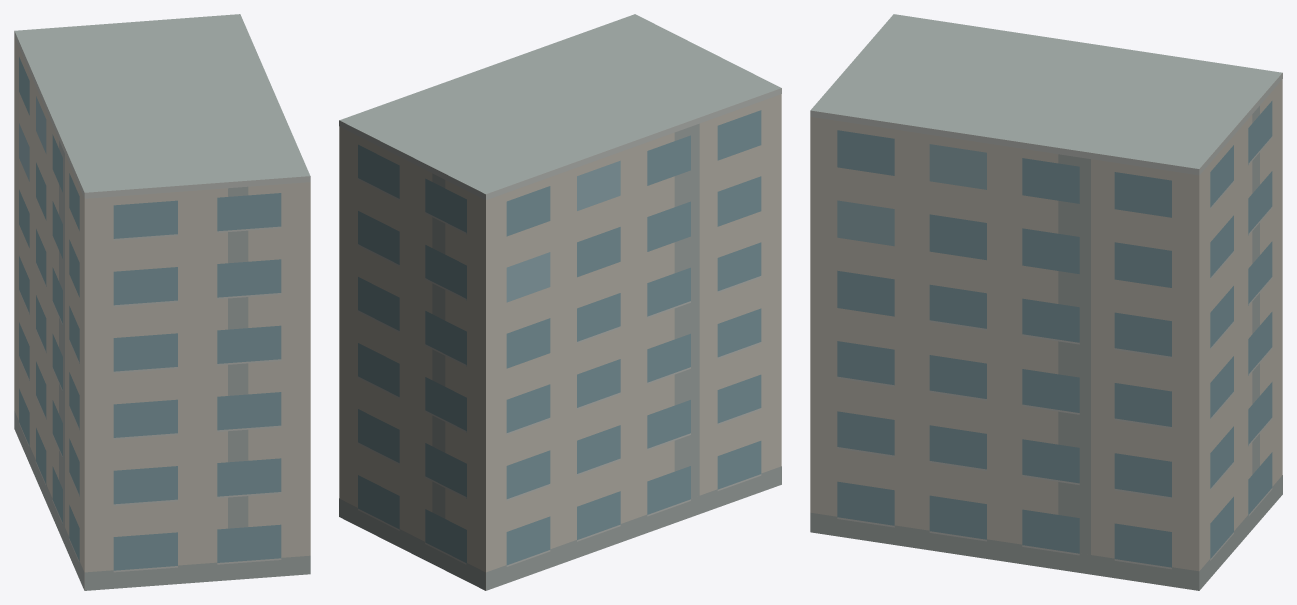
Rendered from survey-upis-32888506.glb.
The picture shows the model from 3 angles, left to right: view 1: azimuth 30°, elevation 25°; view 2: azimuth 150°, elevation 25°; view 3: azimuth 270°, elevation 25°; orthographic projection. The views are drawn at different scales.
Parts seen in each view (by area): view 1: survey-upis-32888506.tmp; view 2: survey-upis-32888506.tmp; view 3: survey-upis-32888506.tmp.
Boxes of the visible parts, <box> form: survey-upis-32888506.tmp: <box>14,14,310,590</box>; survey-upis-32888506.tmp: <box>339,14,781,590</box>; survey-upis-32888506.tmp: <box>810,14,1282,590</box>.
Bounding box in the file's own units: 12.71 × 16.1 × 16.35.
